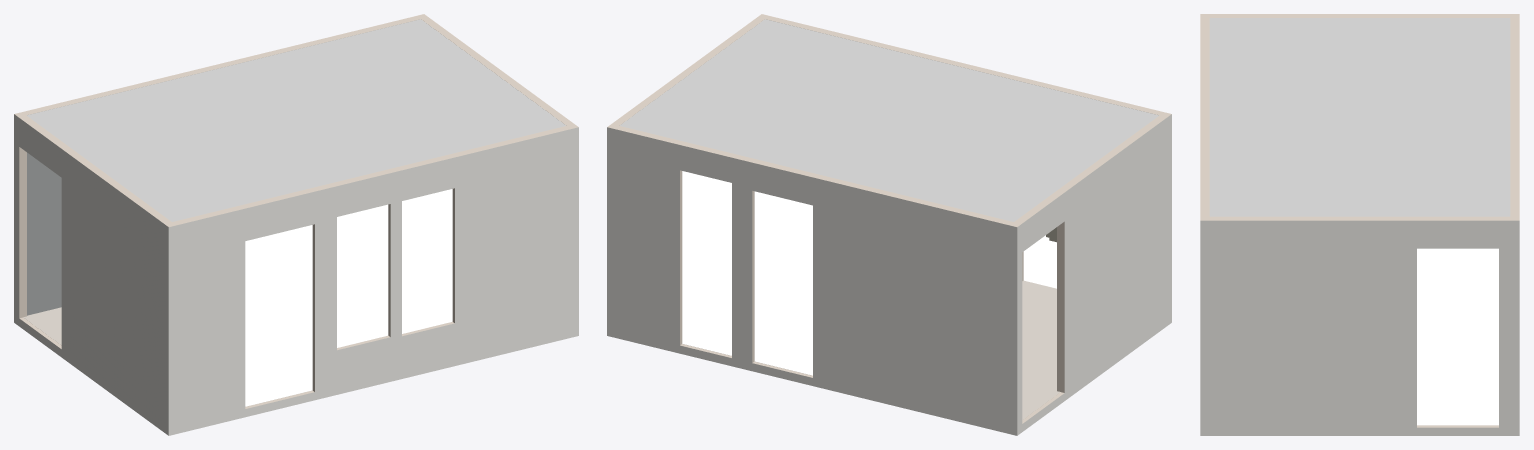
Rendered from 2026-11-06_scan2.glb.
3 views of the same model, side by side, from view 1: azimuth 30°, elevation 25°; view 2: azimuth 150°, elevation 25°; view 3: azimuth 270°, elevation 25° (orthographic). The views are drawn at different scales.
Visible parts, largest first — view 1: Wall_2, Ceiling_Room, Wall_3, Door_3, Wall_0, Window_1, Window_0, Wall_1, Floor_Room; view 2: Wall_0, Ceiling_Room, Wall_3, Door_0, Door_1, Floor_Room, Wall_2, Door_3, Wall_1; view 3: Ceiling_Room, Wall_1, Door_2, Wall_0, Wall_2, Wall_3.
Part boxes in pixels (<box>): Wall_2: <box>168,126,578,435</box>; Ceiling_Room: <box>26,19,566,221</box>; Wall_3: <box>14,114,171,435</box>; Door_3: <box>245,225,312,406</box>; Wall_0: <box>15,14,423,315</box>; Window_1: <box>337,204,388,347</box>; Window_0: <box>402,189,452,333</box>; Wall_1: <box>421,14,577,126</box>; Floor_Room: <box>23,307,305,406</box>; Wall_0: <box>607,126,1017,435</box>; Ceiling_Room: <box>619,19,1159,221</box>; Wall_3: <box>1014,114,1171,435</box>; Door_0: <box>754,191,812,375</box>; Door_1: <box>682,171,731,355</box>; Floor_Room: <box>686,280,1060,419</box>; Wall_2: <box>762,14,1170,280</box>; Door_3: <box>1023,235,1056,288</box>; Wall_1: <box>608,14,764,126</box>; Ceiling_Room: <box>1209,18,1510,216</box>; Wall_1: <box>1200,216,1519,435</box>; Door_2: <box>1417,248,1498,425</box>; Wall_0: <box>1510,14,1519,220</box>; Wall_2: <box>1200,14,1209,220</box>; Wall_3: <box>1201,14,1518,17</box>.
Bounding box in the file's own units: 5.3 × 2.58 × 3.46.
Materials: 9 (1 with a texture image).
